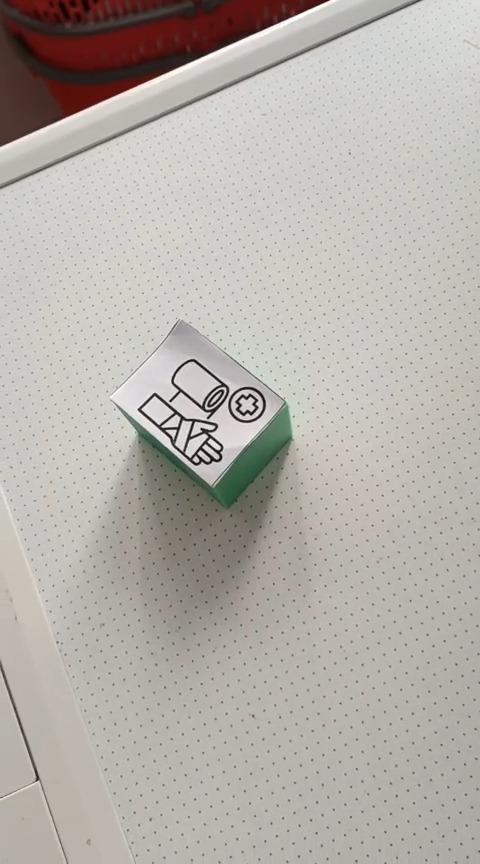Bandages: (108, 316, 293, 509)
